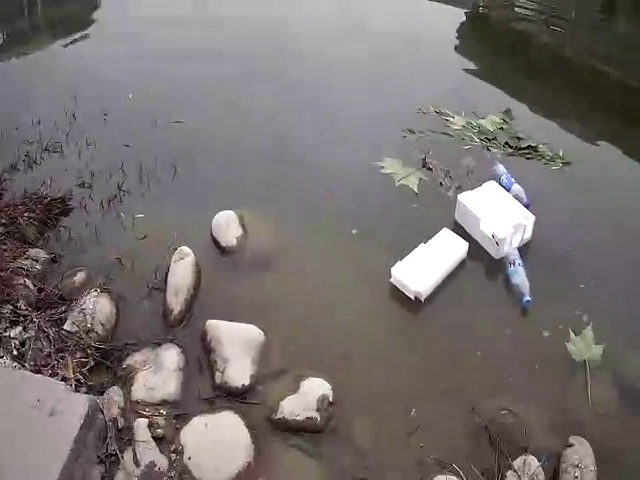bottle: (485, 157, 534, 208), (500, 246, 538, 310)
leaf: (426, 101, 569, 167), (377, 151, 432, 199), (566, 320, 604, 373)
paomo: (378, 224, 466, 304), (453, 177, 539, 255)
